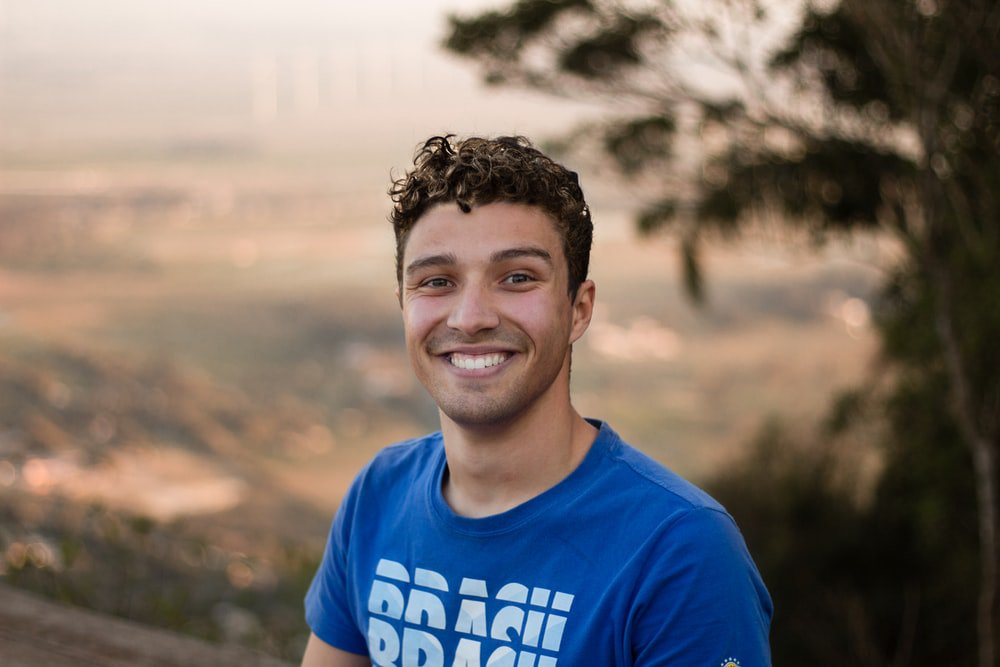noMask: (362, 126, 615, 435)
